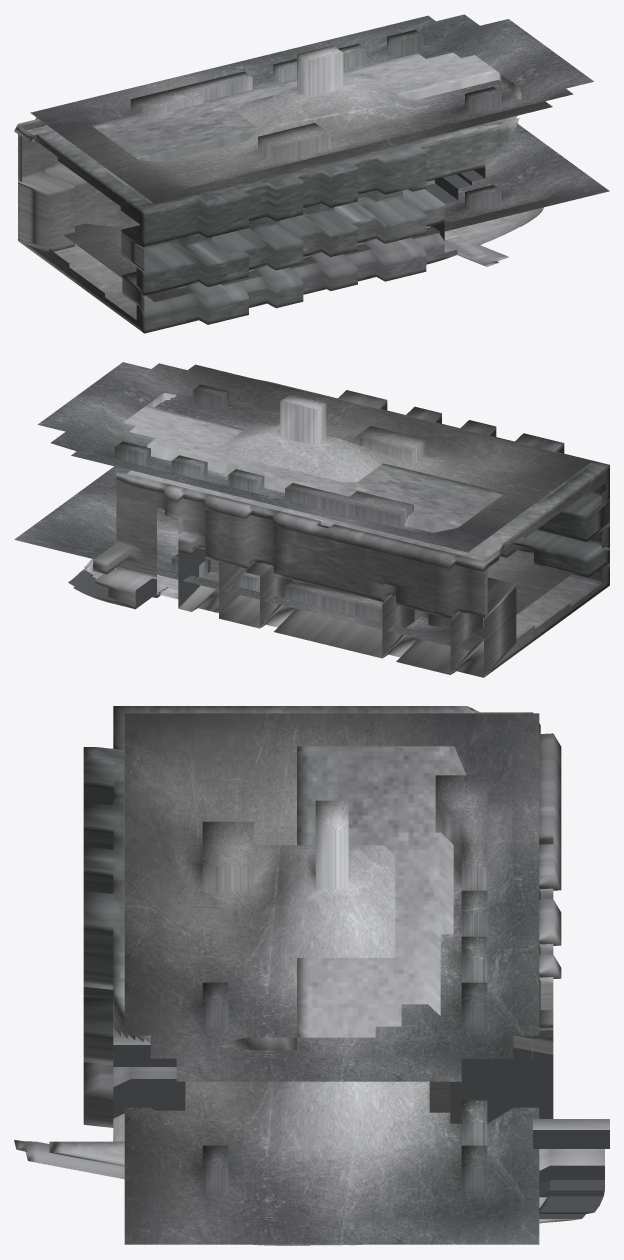
Rendered from pieza17.fbx.
3 renders of one model, top to bottom at view 1: azimuth 30°, elevation 25°; view 2: azimuth 150°, elevation 25°; view 3: azimuth 270°, elevation 25°, orthographic. The views are drawn at different scales.
Visible parts, largest first — view 1: Plane.015; view 2: Plane.015; view 3: Plane.015.
Boxes of the visible parts, x1,y1,x2,y2 form: Plane.015: (14,14,609,333); Plane.015: (14,362,609,677); Plane.015: (14,706,609,1245).
Bounding box in the file's own units: 372 × 130 × 245.
Materials: 3 (3 with a texture image).
